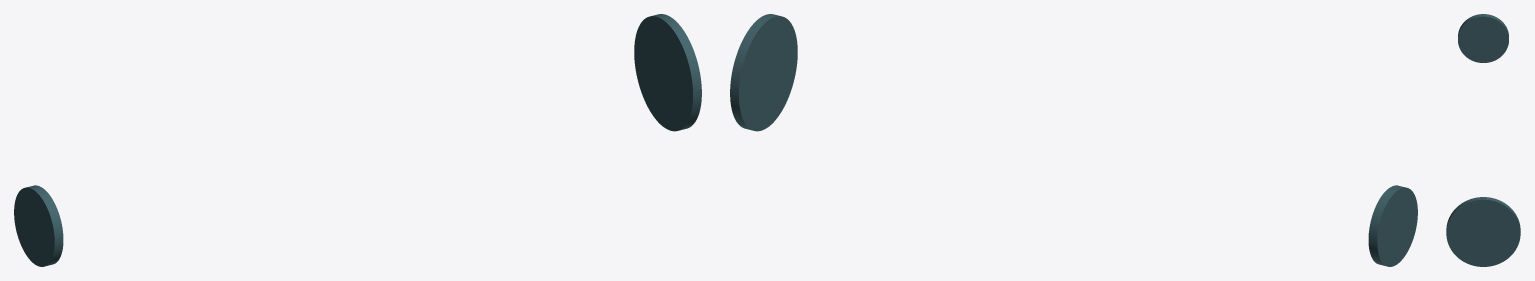
The model's file is SM_Scope4x_Glass.fbx.
3 views of the same model, side by side, from view 1: azimuth 30°, elevation 25°; view 2: azimuth 150°, elevation 25°; view 3: azimuth 270°, elevation 25° (orthographic). The views are drawn at different scales.
Parts seen in each view (by area): view 1: SM_Scope4x_Glass; view 2: SM_Scope4x_Glass; view 3: SM_Scope4x_Glass.
Part boxes in pixels (x1=…): SM_Scope4x_Glass: x1=14, y1=14, x2=701, y2=266; SM_Scope4x_Glass: x1=730, y1=14, x2=1417, y2=266; SM_Scope4x_Glass: x1=1446, y1=14, x2=1520, y2=266.
Bounding box in the file's own units: 0.0219 × 0.1367 × 0.0219.
